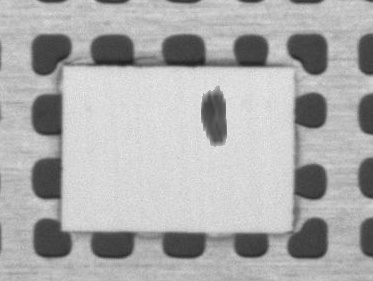DIE_INK: (199, 84, 228, 146)
